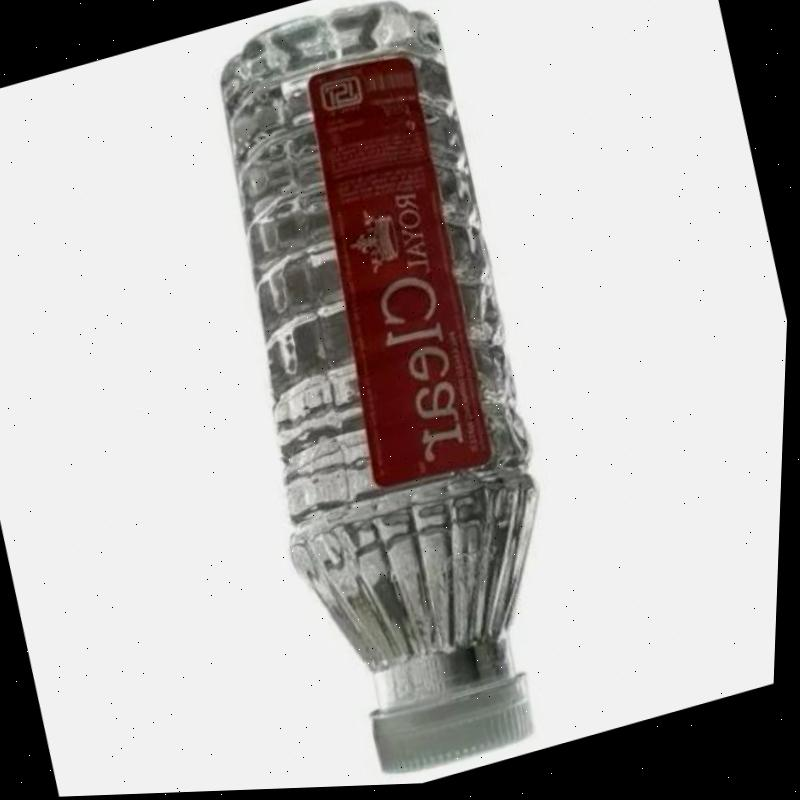botella: (161, 0, 612, 795)
